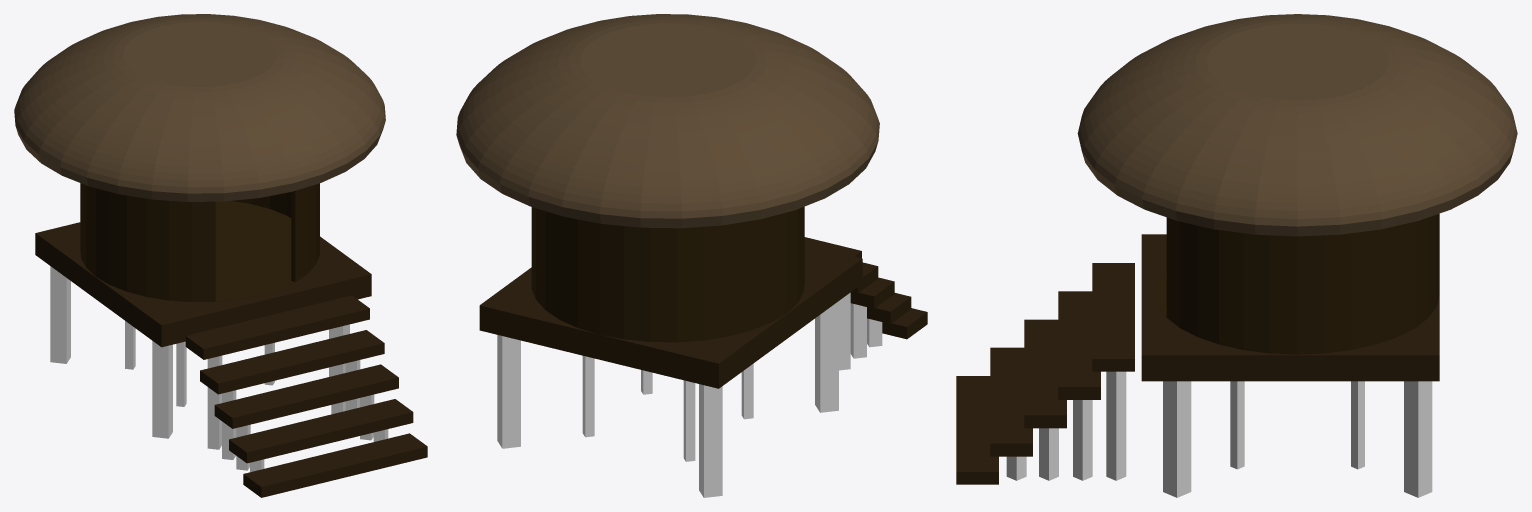
File: StrawHouseForGoblinV1.fbx
3 renders of one model, left to right at view 1: azimuth 30°, elevation 25°; view 2: azimuth 150°, elevation 25°; view 3: azimuth 270°, elevation 25°, orthographic. The views are drawn at different scales.
Parts seen in each view (by area): view 1: Cylinder.001, Cube.001, Cylinder, Cube, Cylinder.005, Cylinder.002, Cylinder.006, Cylinder.018, Cylinder.009, Cylinder.017, Cylinder.007; view 2: Cylinder.001, Cylinder, Cube, Cube.001, Cylinder.002, Cylinder.003, Cylinder.005, Cylinder.016, Cylinder.017, Cylinder.010, Cylinder.009, Cylinder.018; view 3: Cylinder.001, Cylinder, Cube.001, Cube, Cylinder.003, Cylinder.004, Cylinder.007, Cylinder.008, Cylinder.019, Cylinder.016, Cylinder.011.
Boxes of the visible parts, x1,y1,x2,y2 form: Cylinder.001: [14, 14, 385, 201]; Cube.001: [185, 295, 427, 497]; Cylinder: [80, 183, 319, 302]; Cube: [35, 222, 371, 347]; Cylinder.005: [152, 341, 172, 438]; Cylinder.002: [50, 266, 70, 363]; Cylinder.006: [207, 355, 222, 449]; Cylinder.018: [176, 341, 186, 406]; Cylinder.009: [222, 390, 236, 459]; Cylinder.017: [125, 321, 135, 369]; Cylinder.007: [331, 325, 345, 414]; Cylinder.001: [456, 14, 879, 228]; Cylinder: [531, 206, 804, 342]; Cube: [479, 244, 862, 388]; Cube.001: [804, 237, 927, 339]; Cylinder.002: [699, 384, 722, 497]; Cylinder.003: [497, 335, 520, 448]; Cylinder.005: [815, 301, 838, 412]; Cylinder.016: [582, 355, 594, 437]; Cylinder.017: [683, 380, 695, 461]; Cylinder.010: [850, 303, 866, 358]; Cylinder.009: [839, 292, 850, 370]; Cylinder.018: [741, 363, 753, 419]; Cylinder.001: [1077, 14, 1517, 236]; Cylinder: [1156, 213, 1439, 354]; Cube.001: [956, 263, 1134, 484]; Cube: [1141, 234, 1439, 381]; Cylinder.003: [1404, 381, 1432, 497]; Cylinder.004: [1163, 381, 1191, 497]; Cylinder.007: [1106, 371, 1126, 480]; Cylinder.008: [1073, 400, 1092, 480]; Cylinder.019: [1230, 381, 1244, 469]; Cylinder.016: [1351, 381, 1364, 469]; Cylinder.011: [1039, 428, 1058, 480].
Size of the model in its own units: 310 by 295 by 396.
